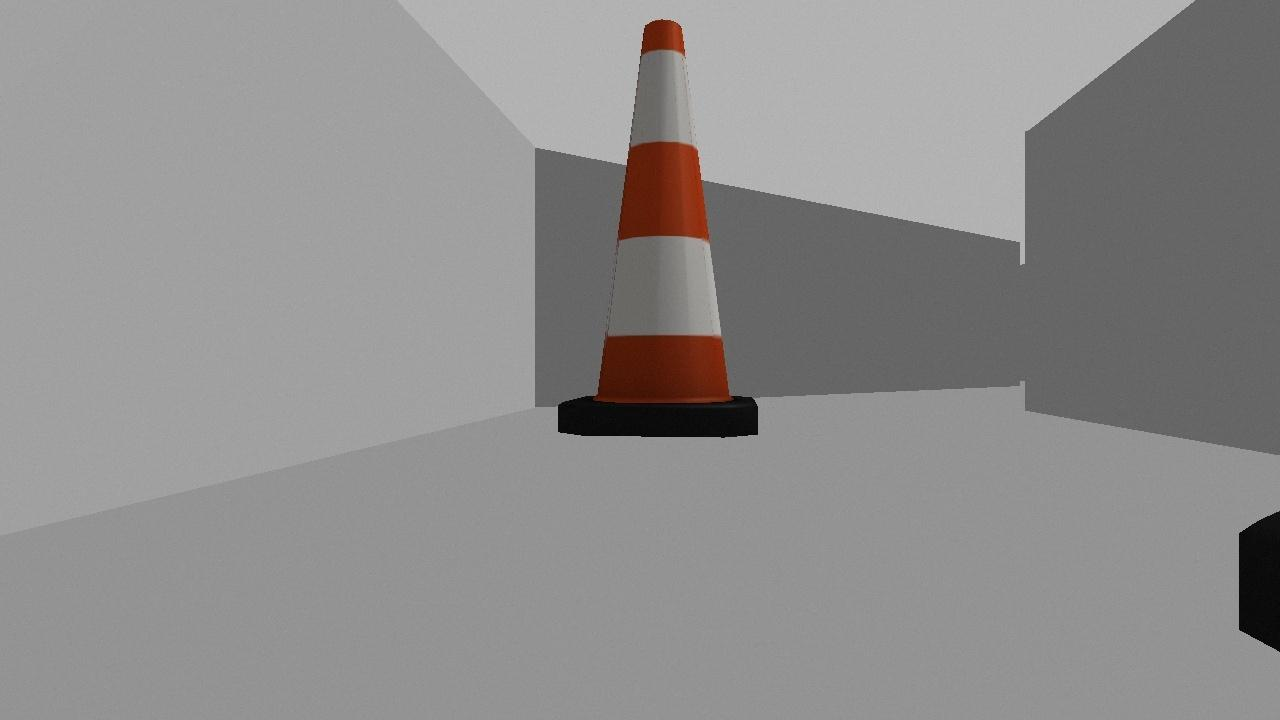cone_barrel: (542, 13, 777, 451)
